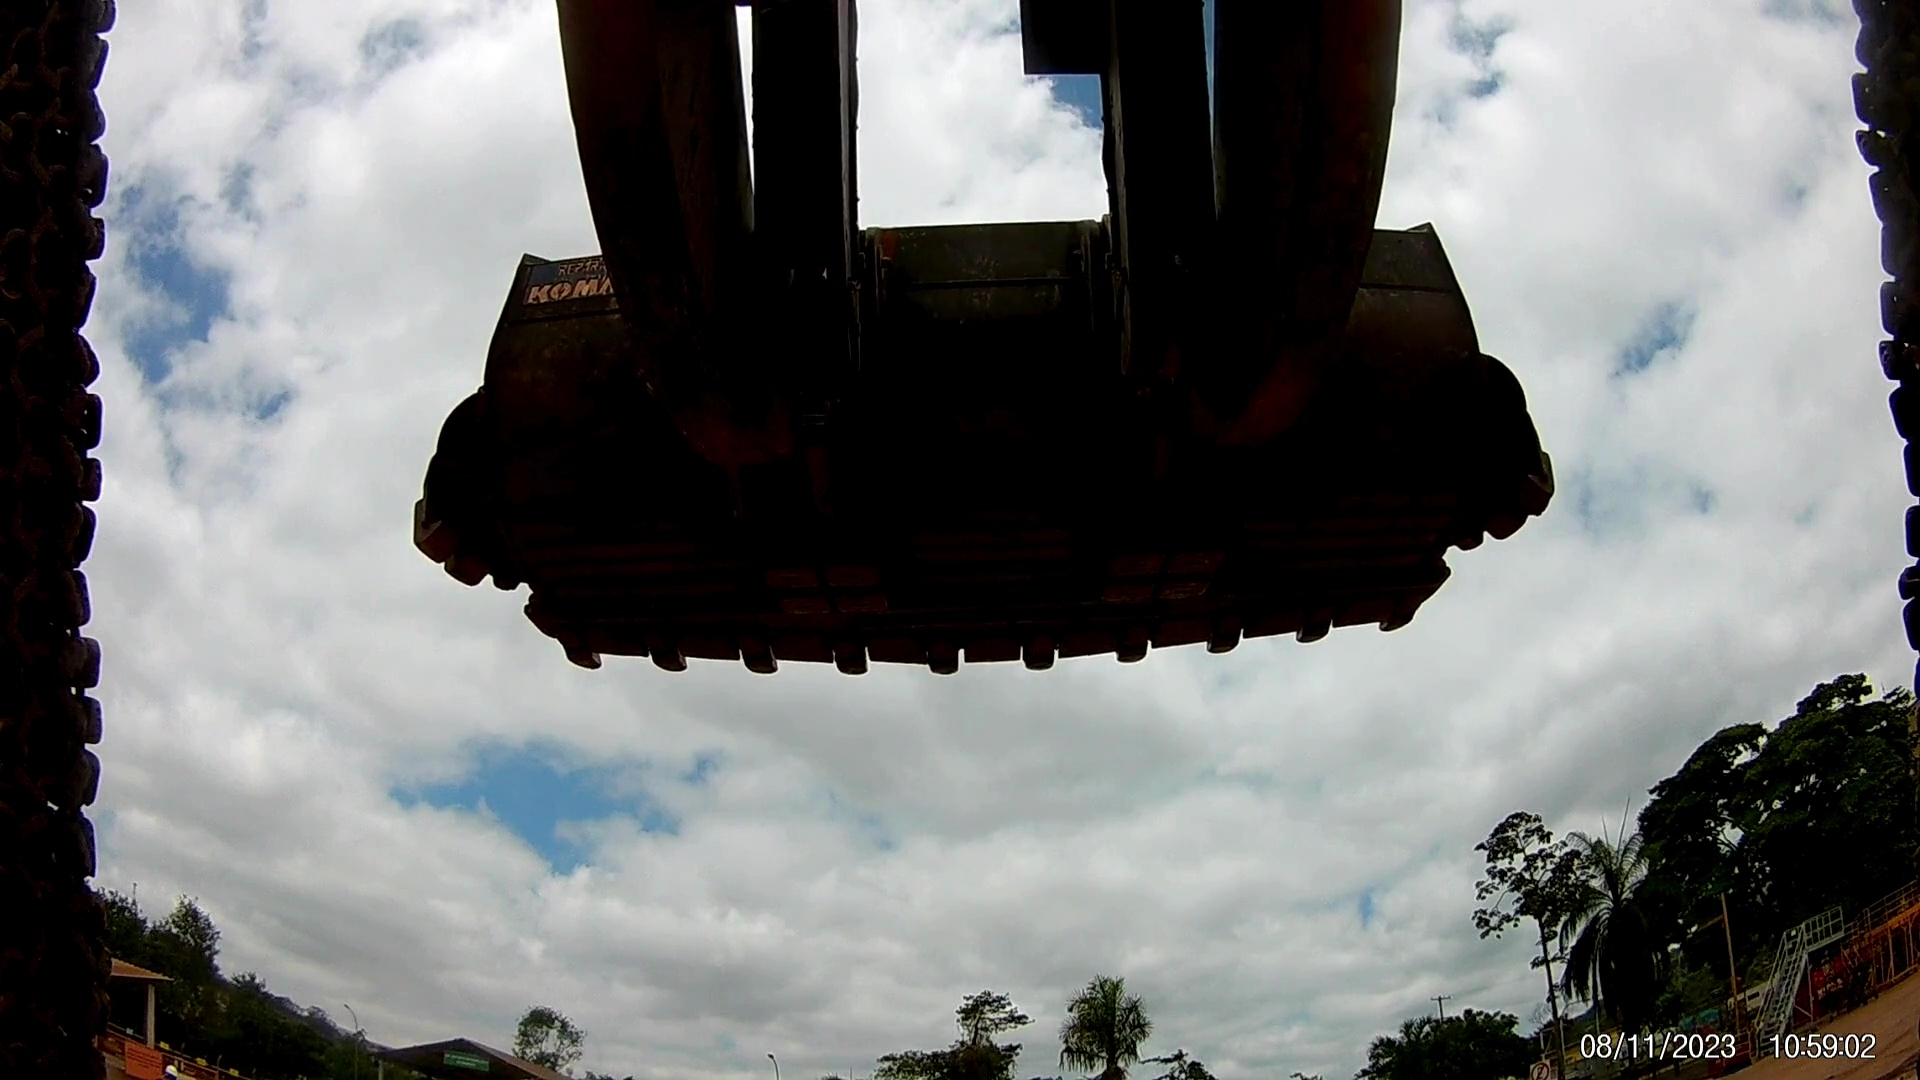FPS: (816, 629, 885, 691), (1104, 612, 1158, 686), (556, 632, 622, 691), (640, 636, 705, 695), (723, 641, 800, 684), (1370, 591, 1429, 647), (918, 626, 971, 688), (1011, 624, 1058, 694), (1287, 612, 1344, 665), (1208, 618, 1254, 673)
